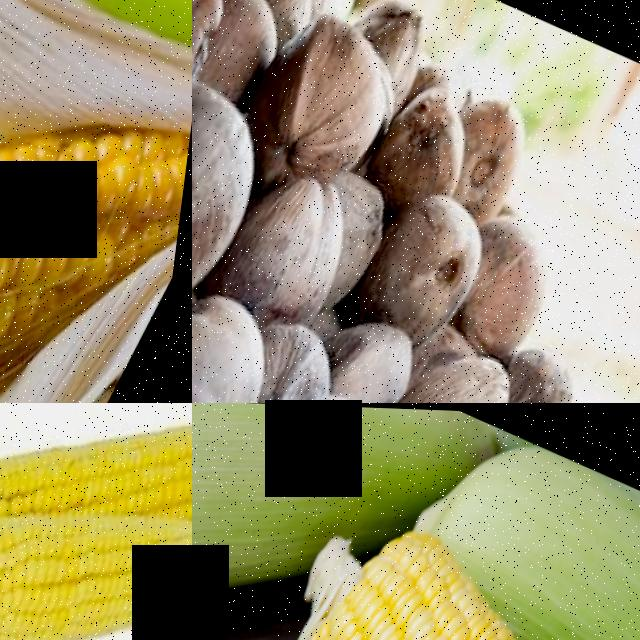coconut: (231, 0, 427, 192), (206, 154, 383, 334), (192, 50, 300, 337), (359, 173, 518, 340), (378, 325, 567, 403), (569, 362, 573, 366)
corn: (0, 2, 192, 403), (288, 523, 640, 640), (0, 437, 192, 640), (99, 403, 192, 549), (12, 414, 128, 511)
